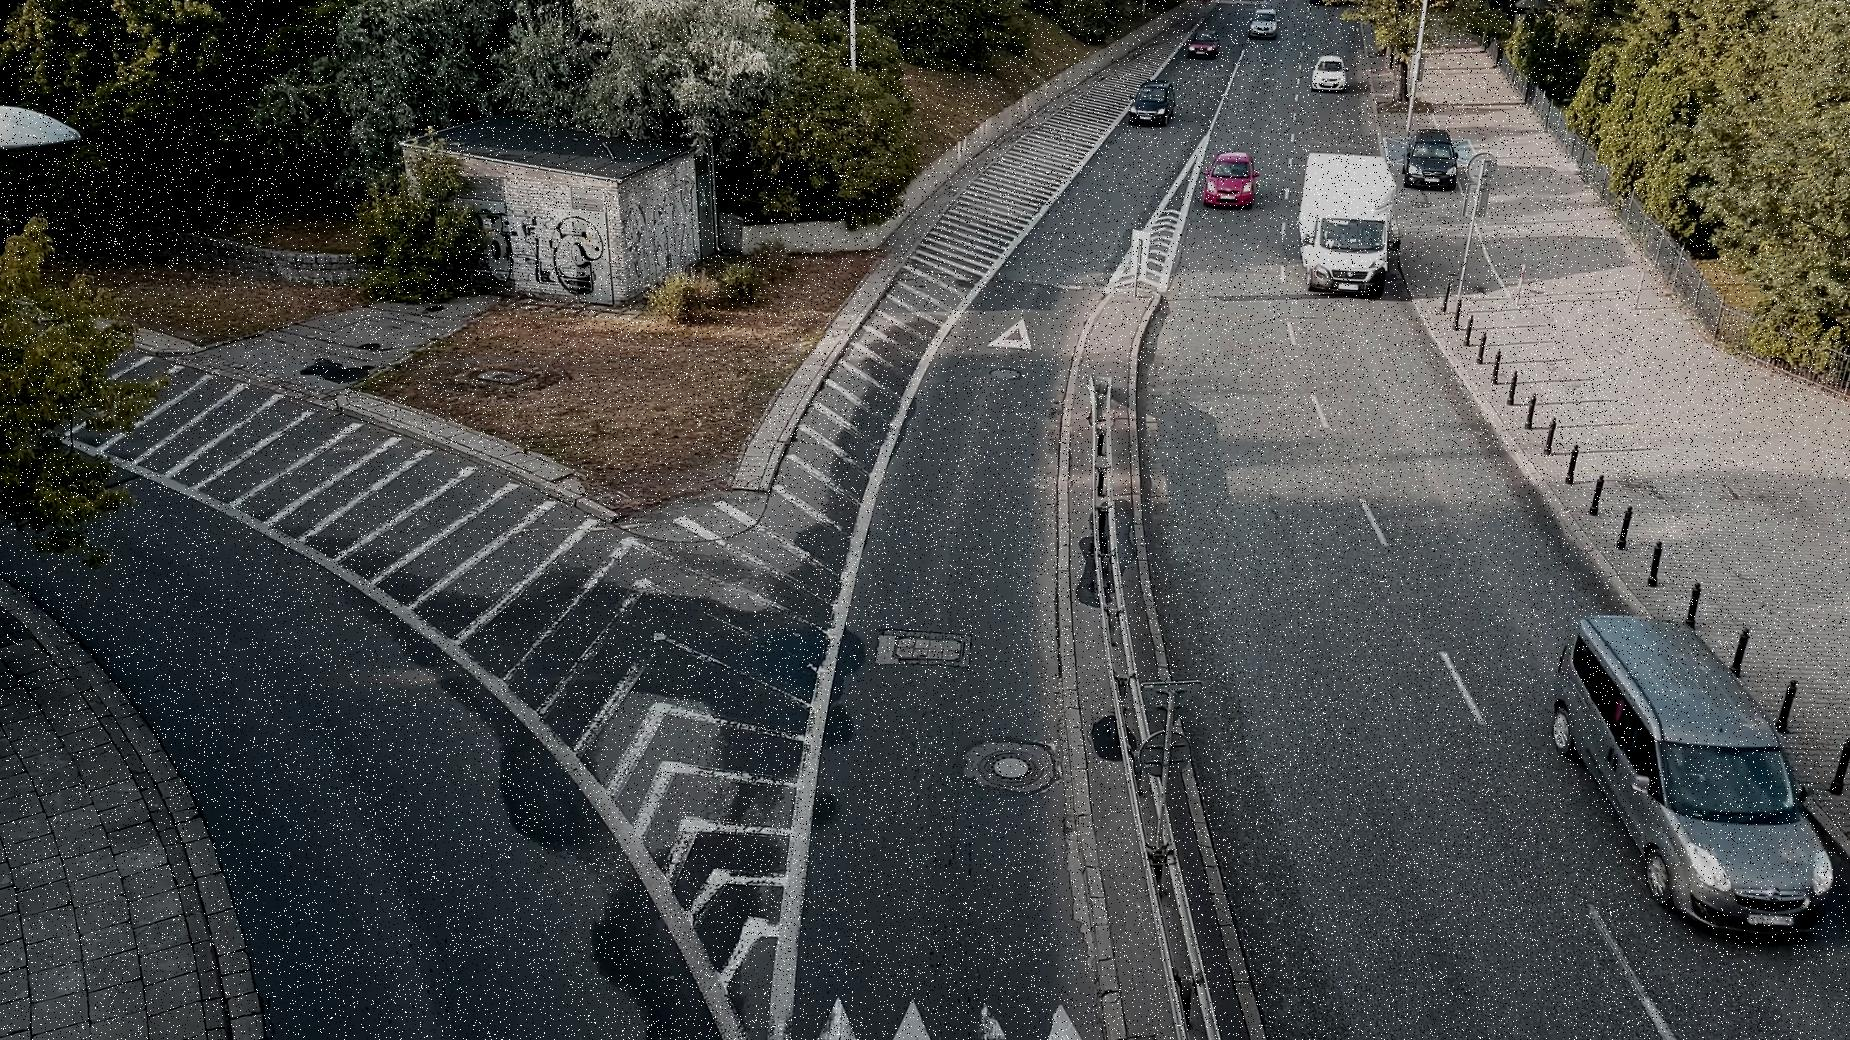car: (1542, 602, 1839, 935), (1296, 147, 1403, 298), (1402, 119, 1459, 189), (1202, 141, 1255, 211), (1128, 76, 1178, 124), (1309, 54, 1346, 91), (1242, 2, 1283, 35), (1181, 26, 1222, 56)
